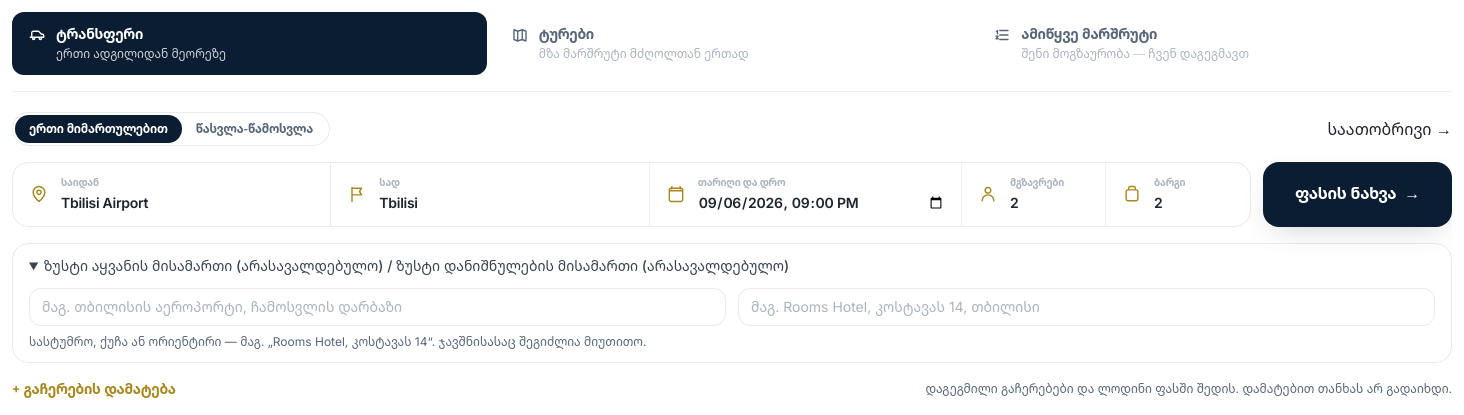
Scenario: booking widget (ka) › switches panels when another mode is chosen
Step 1. Click the tab "ტურები მზა მარშრუტი მძღოლთან ერთად" → [732, 43], box [495, 12, 969, 74]
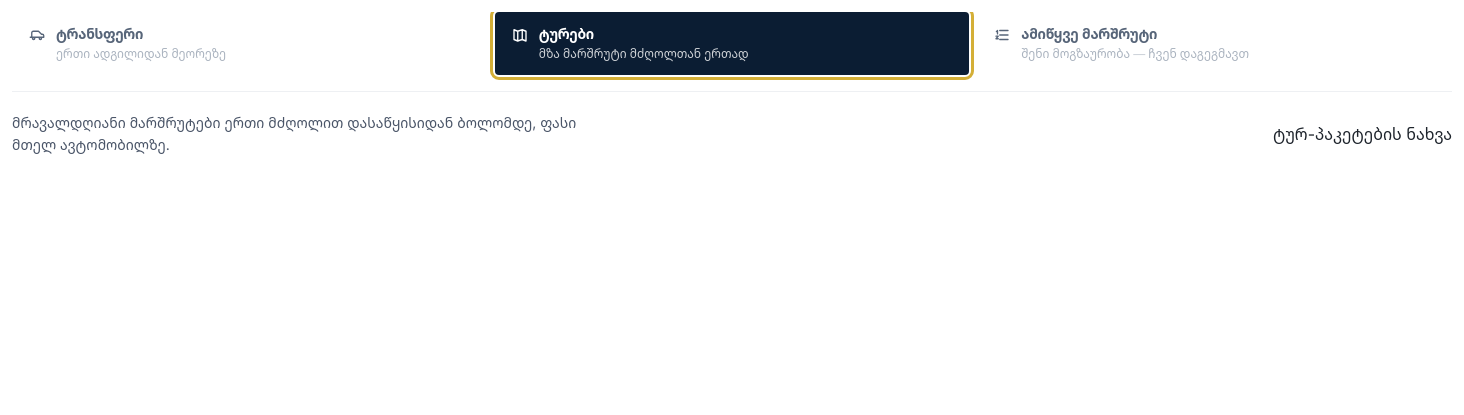
Expected: the text "მრავალდღიანი მარშრუტები ერთი მძღოლით დასაწყისიდან ბოლომდე, ფასი მთელ ავტომობილზე." is shown, [12, 114, 576, 153]
Expected: the button "ფასის ნახვა" is gone
Step 2. Click the tab "ამიწყვე მარშრუტი შენი მოგზაურობა — ჩვენ დაგეგმავთ" → [1215, 43], box [977, 12, 1452, 74]
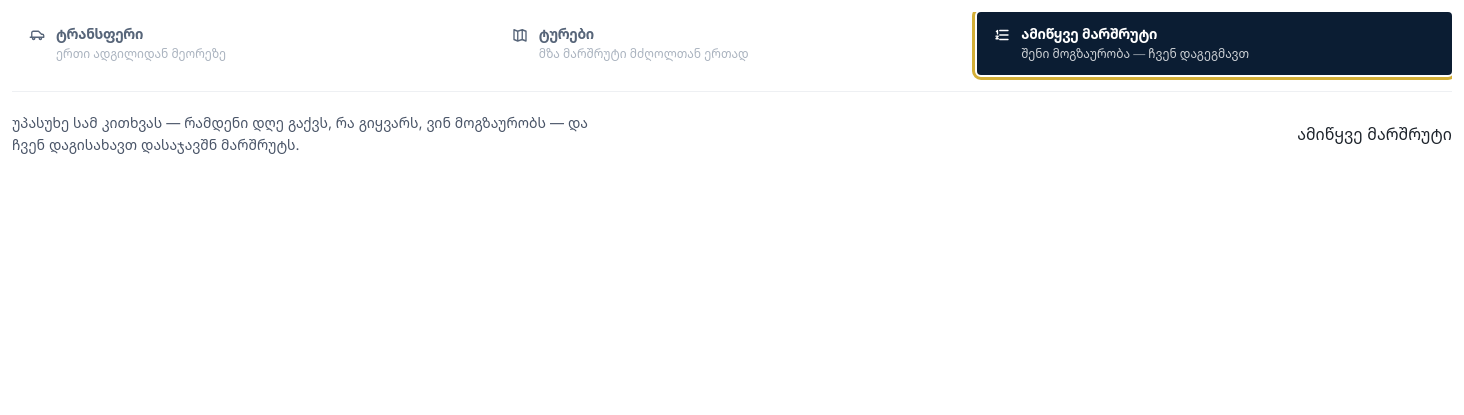
Expected: the text "უპასუხე სამ კითხვას — რამდენი დღე გაქვს, რა გიყვარს, ვინ მოგზაურობს — და ჩვენ დაგისახავთ დასაჯავშნ მარშრუტს." is shown, [12, 114, 588, 153]
Expected: the text "მრავალდღიანი მარშრუტები ერთი მძღოლით დასაწყისიდან ბოლომდე, ფასი მთელ ავტომობილზე." is gone
Step 3. Click the tab "ტრანსფერი ერთი ადგილიდან მეორეზე" → [100, 34], box [12, 12, 487, 74]
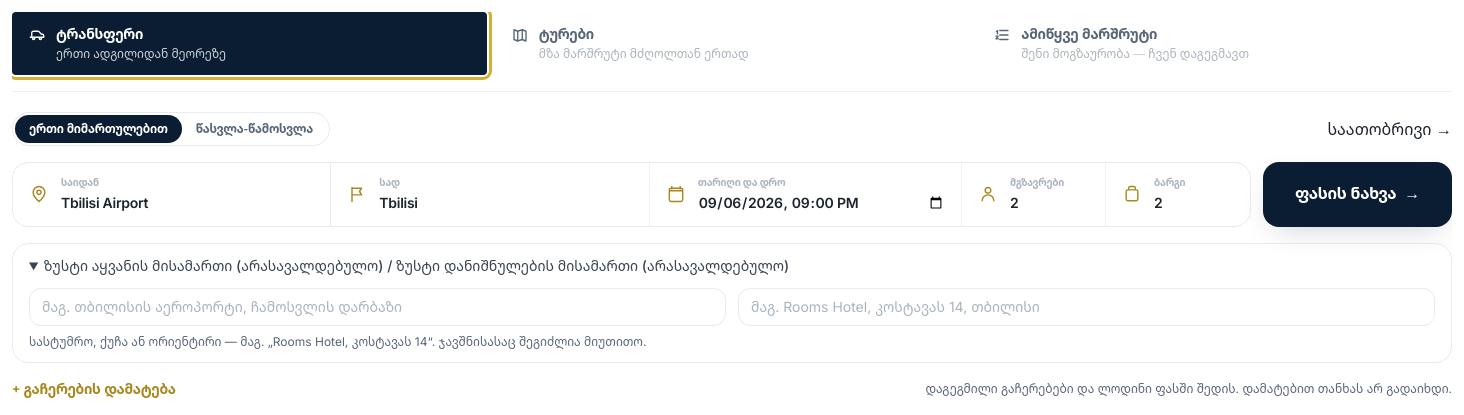
Expected: the button "ფასის ნახვა →" is shown, [1263, 162, 1452, 226]
